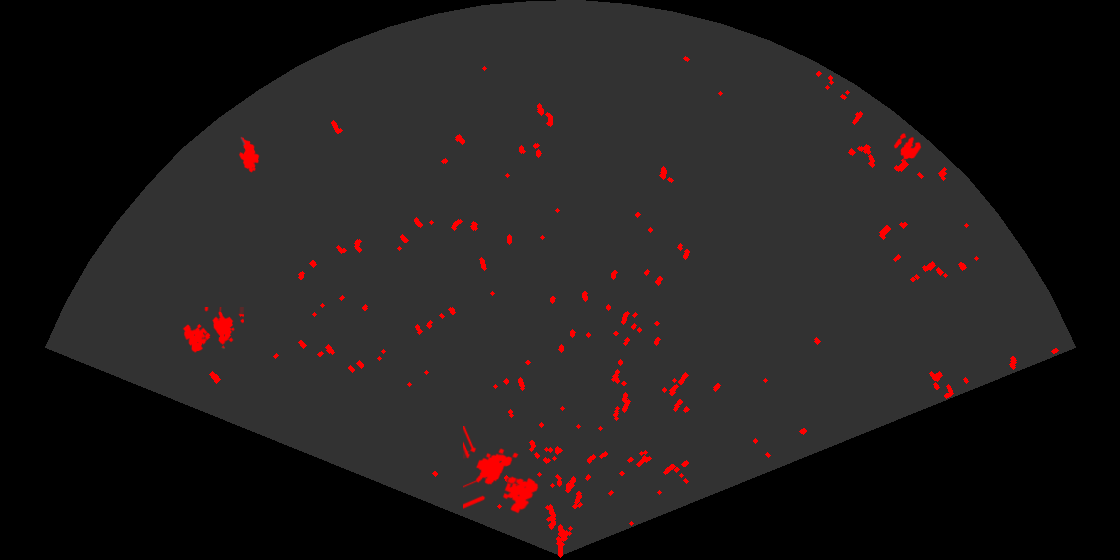AUV: (237, 135, 261, 174)
ball: (892, 131, 923, 161)
cage: (463, 426, 540, 515), (181, 307, 244, 354)
